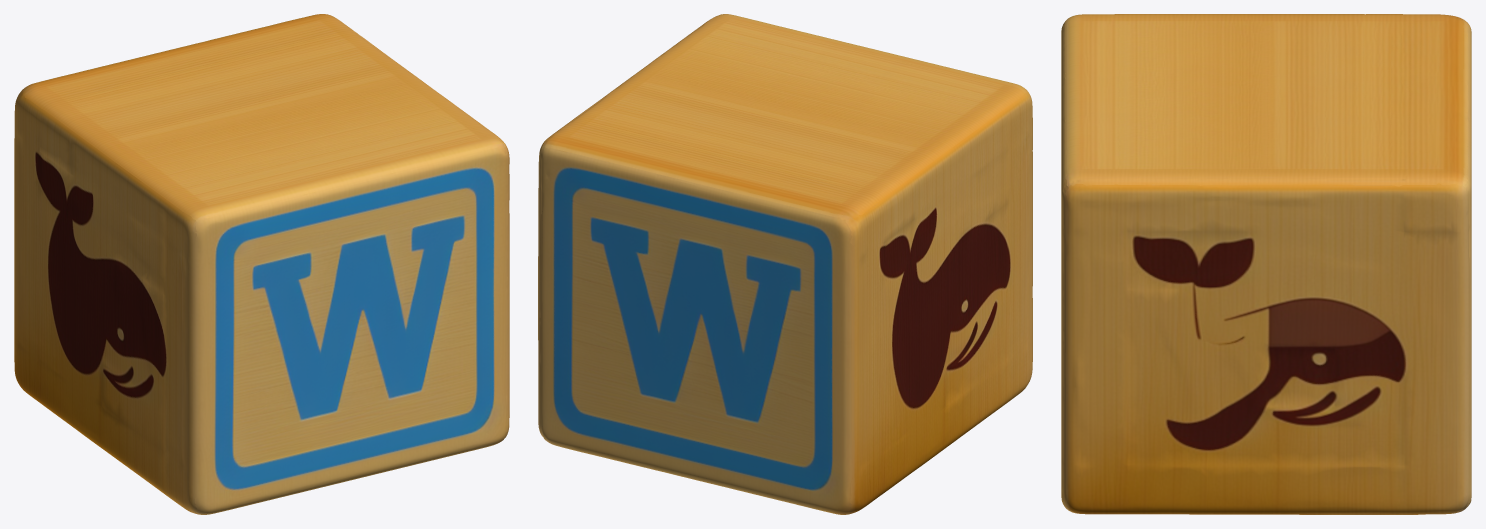
3 views of the same model, side by side, from view 1: azimuth 30°, elevation 25°; view 2: azimuth 150°, elevation 25°; view 3: azimuth 270°, elevation 25° (orthographic). The views are drawn at different scales.
Parts seen in each view (by area): view 1: tmp6o8utrd6.ply; view 2: tmp6o8utrd6.ply; view 3: tmp6o8utrd6.ply.
Part boxes in pixels (left/top/right/bottom): tmp6o8utrd6.ply: left=14, top=14, right=509, bottom=514; tmp6o8utrd6.ply: left=538, top=14, right=1032, bottom=514; tmp6o8utrd6.ply: left=1061, top=14, right=1471, bottom=514.
Bounding box in the file's own units: 1.97 × 1.78 × 1.96.
1 material, 1 textured.
